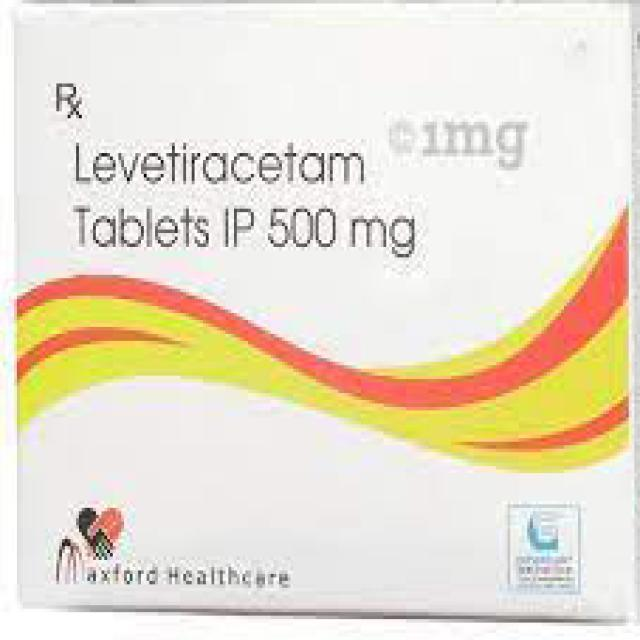drug-name: (69, 139, 371, 191)
